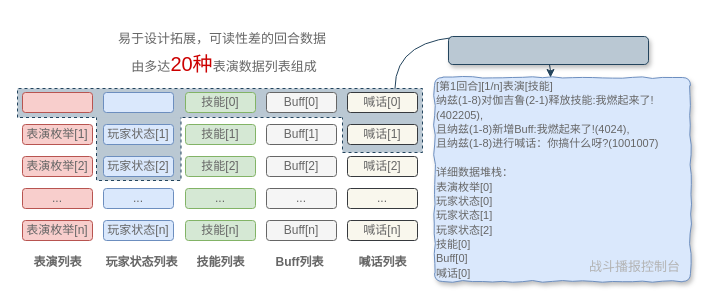
This 714x306 diagram has some shape labels left out. The shapes that lost their labels are listed below. From the top down, each one's centre as x and y in pixels, then its label:
the point at 549,52: 记录数据堆栈，解释战斗表演
the point at 57,102: 表演枚举[0]
the point at 138,102: 玩家状态[0]
